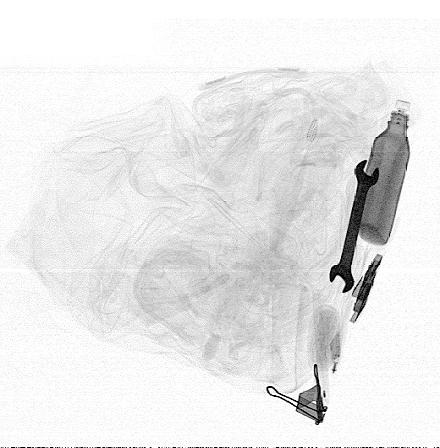Wrench: (327, 158, 380, 293)
